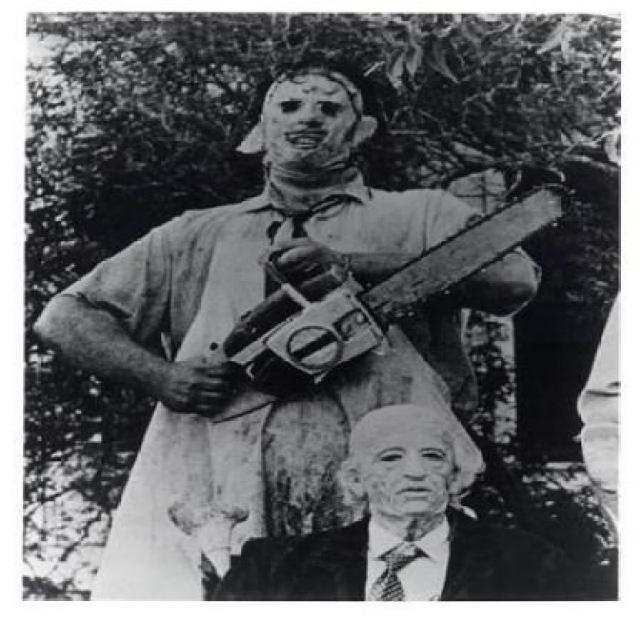Chainsaw: (163, 168, 579, 409)
